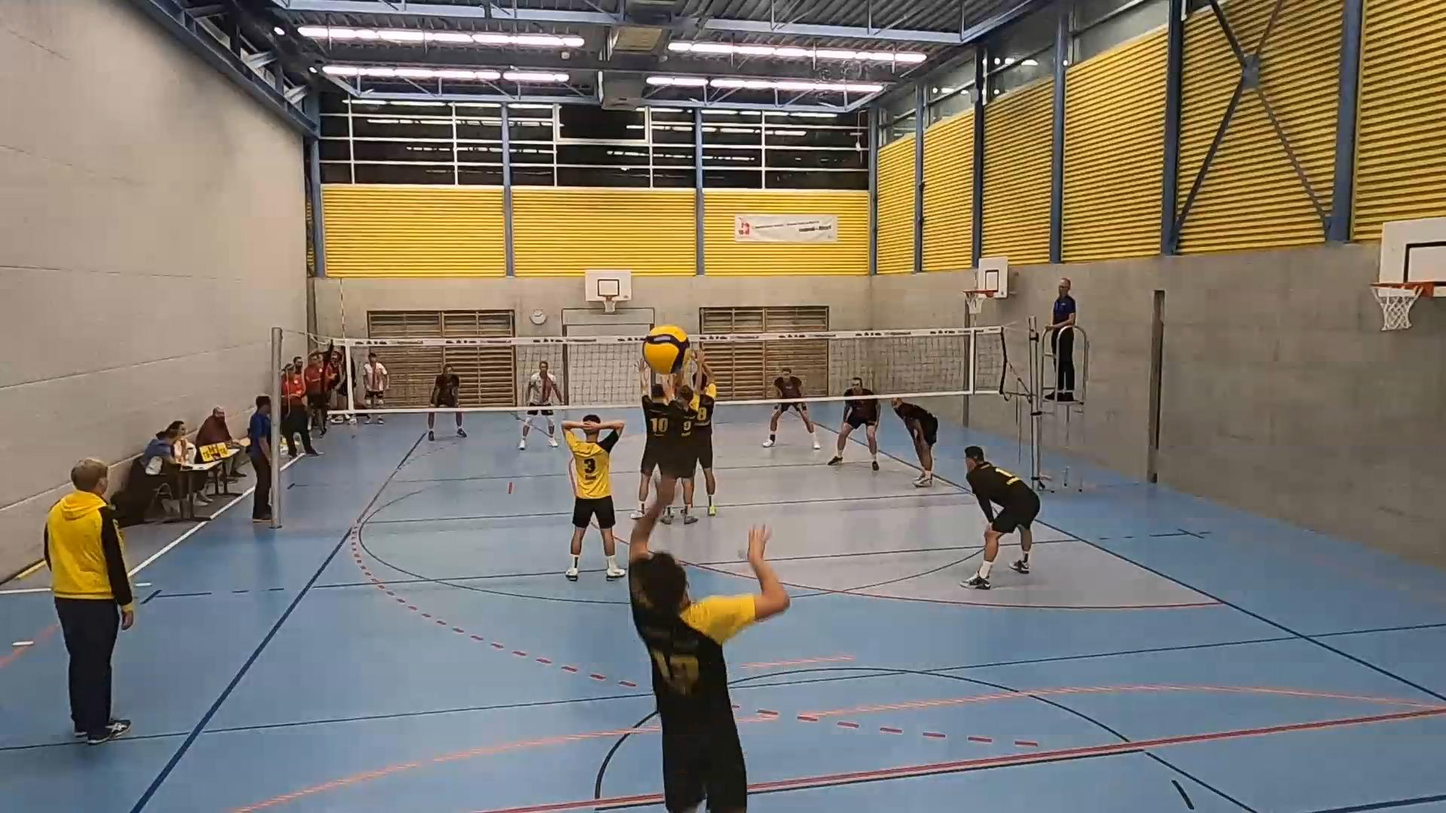battuta: (622, 473, 796, 813)
